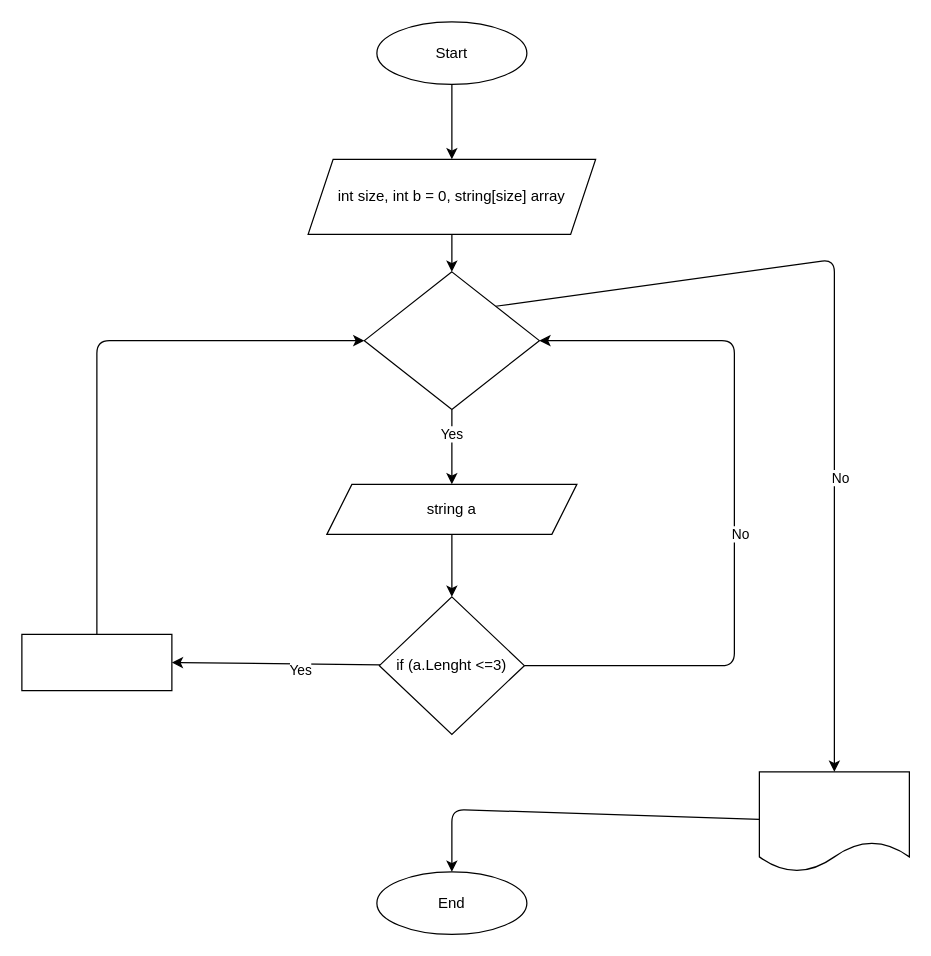
Image size: 931x956. Some labels were removed from this diagram. The centre of each missing label's shape, as x and y in pixels:
"array [b] = a b++" belongs at pixel 96 662.
"for ( i=0, i < size, i++)" belongs at pixel 451 340.
"print array" belongs at pixel 833 821.
